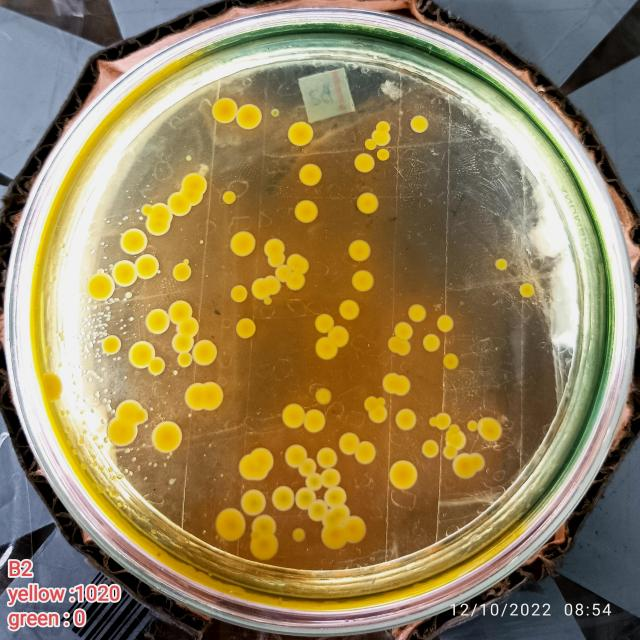yellow: (215, 508, 246, 542), (151, 421, 183, 453), (106, 417, 138, 446), (389, 460, 418, 490), (86, 273, 115, 301), (121, 228, 148, 255), (230, 230, 256, 258), (112, 260, 138, 288), (129, 340, 155, 368), (236, 104, 263, 130), (288, 121, 314, 147), (212, 98, 238, 124), (241, 489, 266, 516), (116, 400, 143, 425), (343, 516, 367, 544), (250, 536, 278, 560), (168, 299, 194, 324), (135, 253, 159, 280), (452, 453, 476, 480), (203, 381, 224, 411), (193, 340, 218, 365), (320, 526, 346, 550), (282, 402, 305, 429), (41, 373, 62, 402), (478, 417, 502, 442), (271, 486, 295, 511), (146, 309, 170, 334), (185, 382, 205, 412), (348, 238, 372, 262), (251, 447, 275, 471), (239, 456, 262, 481), (294, 200, 318, 223), (168, 192, 191, 216), (304, 409, 326, 434), (351, 270, 375, 292), (298, 164, 322, 186), (182, 173, 208, 193), (395, 408, 417, 431), (316, 336, 338, 359), (285, 445, 307, 468), (355, 441, 376, 465), (252, 515, 276, 536), (145, 217, 171, 236), (356, 192, 378, 214), (328, 326, 350, 348), (316, 447, 338, 469), (295, 487, 316, 510), (287, 253, 310, 274), (339, 432, 359, 455), (324, 487, 347, 507), (339, 299, 360, 320), (236, 317, 256, 339), (176, 317, 199, 336), (180, 187, 203, 206), (308, 499, 327, 521), (172, 333, 194, 352), (314, 313, 334, 333), (321, 468, 341, 488), (102, 336, 122, 356), (445, 431, 466, 450), (252, 278, 270, 300), (173, 262, 192, 282), (354, 154, 375, 172), (394, 322, 413, 341), (287, 273, 306, 292), (368, 406, 388, 424), (264, 239, 285, 256), (152, 204, 173, 221), (265, 274, 281, 296), (299, 458, 317, 477), (470, 451, 486, 472), (382, 373, 398, 394), (411, 114, 429, 132), (422, 334, 440, 352), (230, 285, 248, 303), (148, 357, 166, 375), (371, 130, 391, 146), (395, 376, 411, 396), (409, 304, 426, 322), (422, 440, 439, 458), (305, 473, 322, 491), (437, 315, 454, 332), (315, 388, 332, 404), (436, 412, 451, 430), (275, 265, 290, 283), (519, 283, 535, 298), (396, 341, 412, 356), (267, 255, 286, 267), (444, 354, 459, 369), (291, 527, 306, 542), (388, 337, 401, 353), (178, 353, 192, 367), (443, 446, 457, 459), (334, 506, 348, 519), (364, 397, 377, 411), (223, 191, 236, 204), (140, 204, 153, 217), (376, 121, 391, 132), (377, 149, 390, 161), (496, 258, 508, 271), (138, 409, 148, 422), (467, 421, 478, 432), (365, 139, 376, 150), (325, 513, 336, 524), (449, 425, 460, 433), (271, 109, 280, 118), (378, 397, 386, 407), (430, 417, 438, 426), (264, 298, 272, 306), (250, 532, 259, 539), (183, 259, 190, 265), (187, 156, 192, 162)
